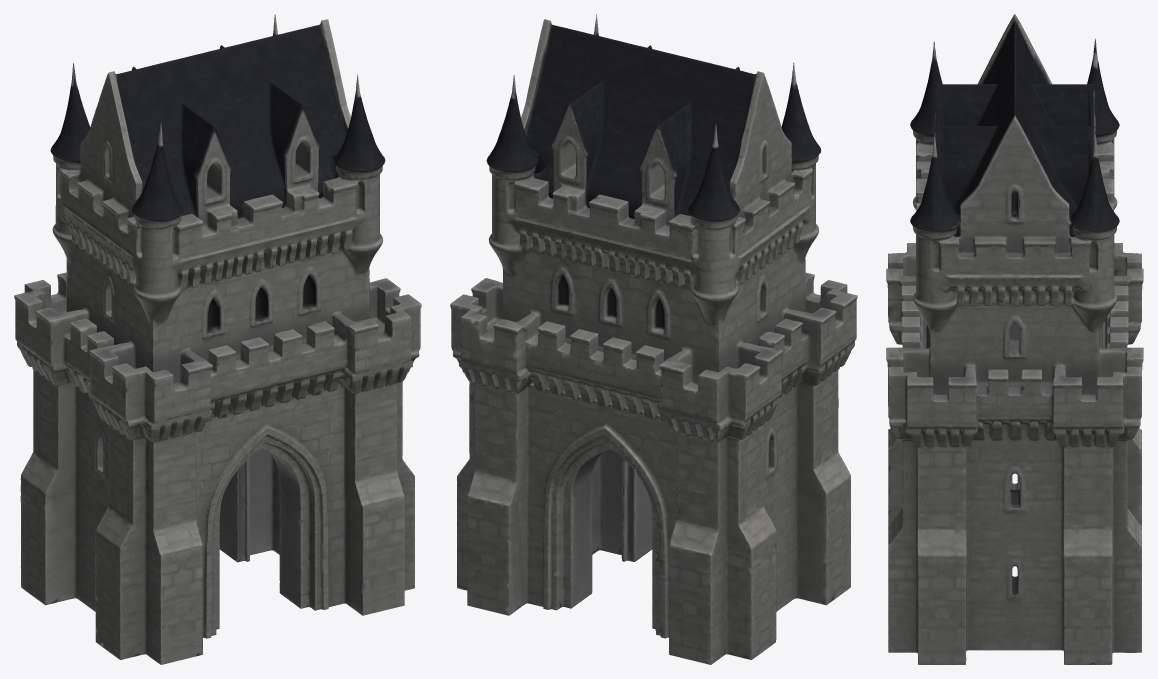
Rendered from nordtor.glb.
3 renders of one model, left to right at view 1: azimuth 30°, elevation 25°; view 2: azimuth 150°, elevation 25°; view 3: azimuth 270°, elevation 25°, orthographic. The views are drawn at different scales.
Bounding box in the file's own units: 1.09 × 1.9 × 0.8377.
Materials: 1 (1 with a texture image).
